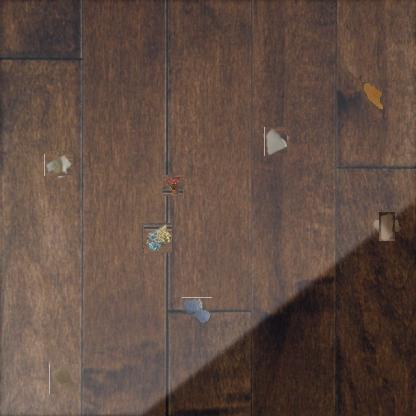dirty: (142, 224, 172, 254), (49, 364, 78, 394), (263, 128, 289, 155), (46, 153, 71, 178), (375, 214, 399, 237), (163, 174, 183, 196)
liquid: (182, 297, 212, 324), (362, 81, 384, 109)
